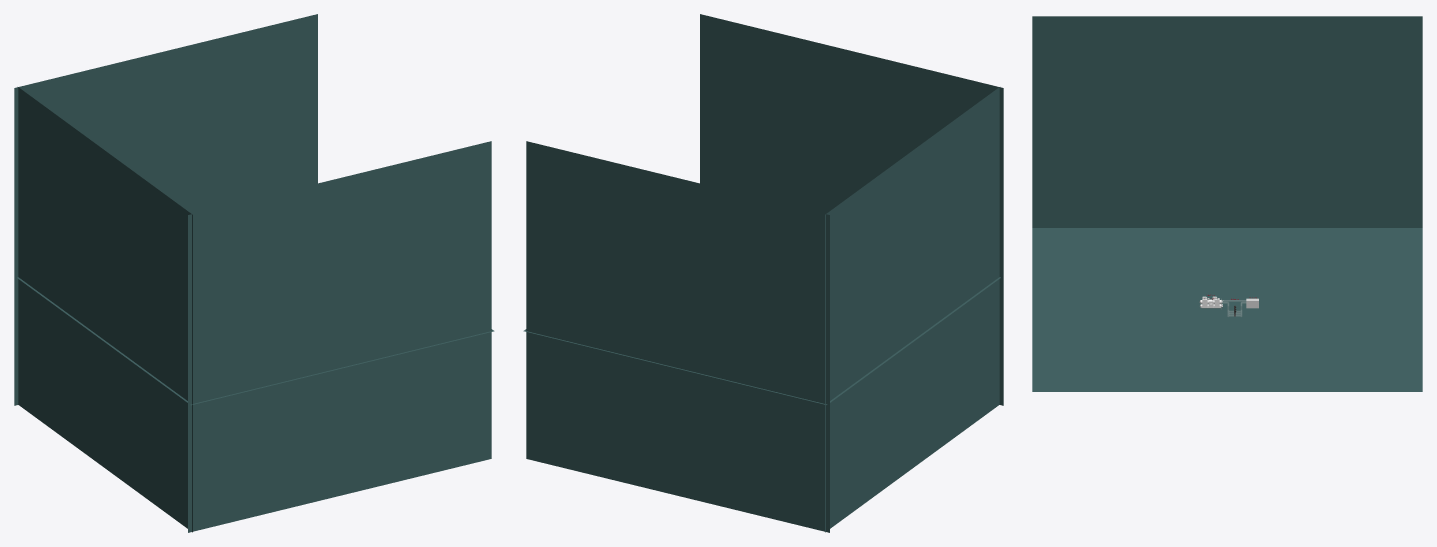
Rendered from ChilllerFull.glb.
3 renders of one model, left to right at view 1: azimuth 30°, elevation 25°; view 2: azimuth 150°, elevation 25°; view 3: azimuth 270°, elevation 25°, orthographic. The views are drawn at different scales.
Parts seen in each view (by area): view 1: Background; view 2: Background; view 3: Background.
Part boxes in pixels (box(x1,y1,x2,y2)): Background: box(14, 14, 494, 532); Background: box(523, 14, 1003, 532); Background: box(1032, 16, 1422, 391).
Size of the model in its own units: 231 by 230 by 230.
